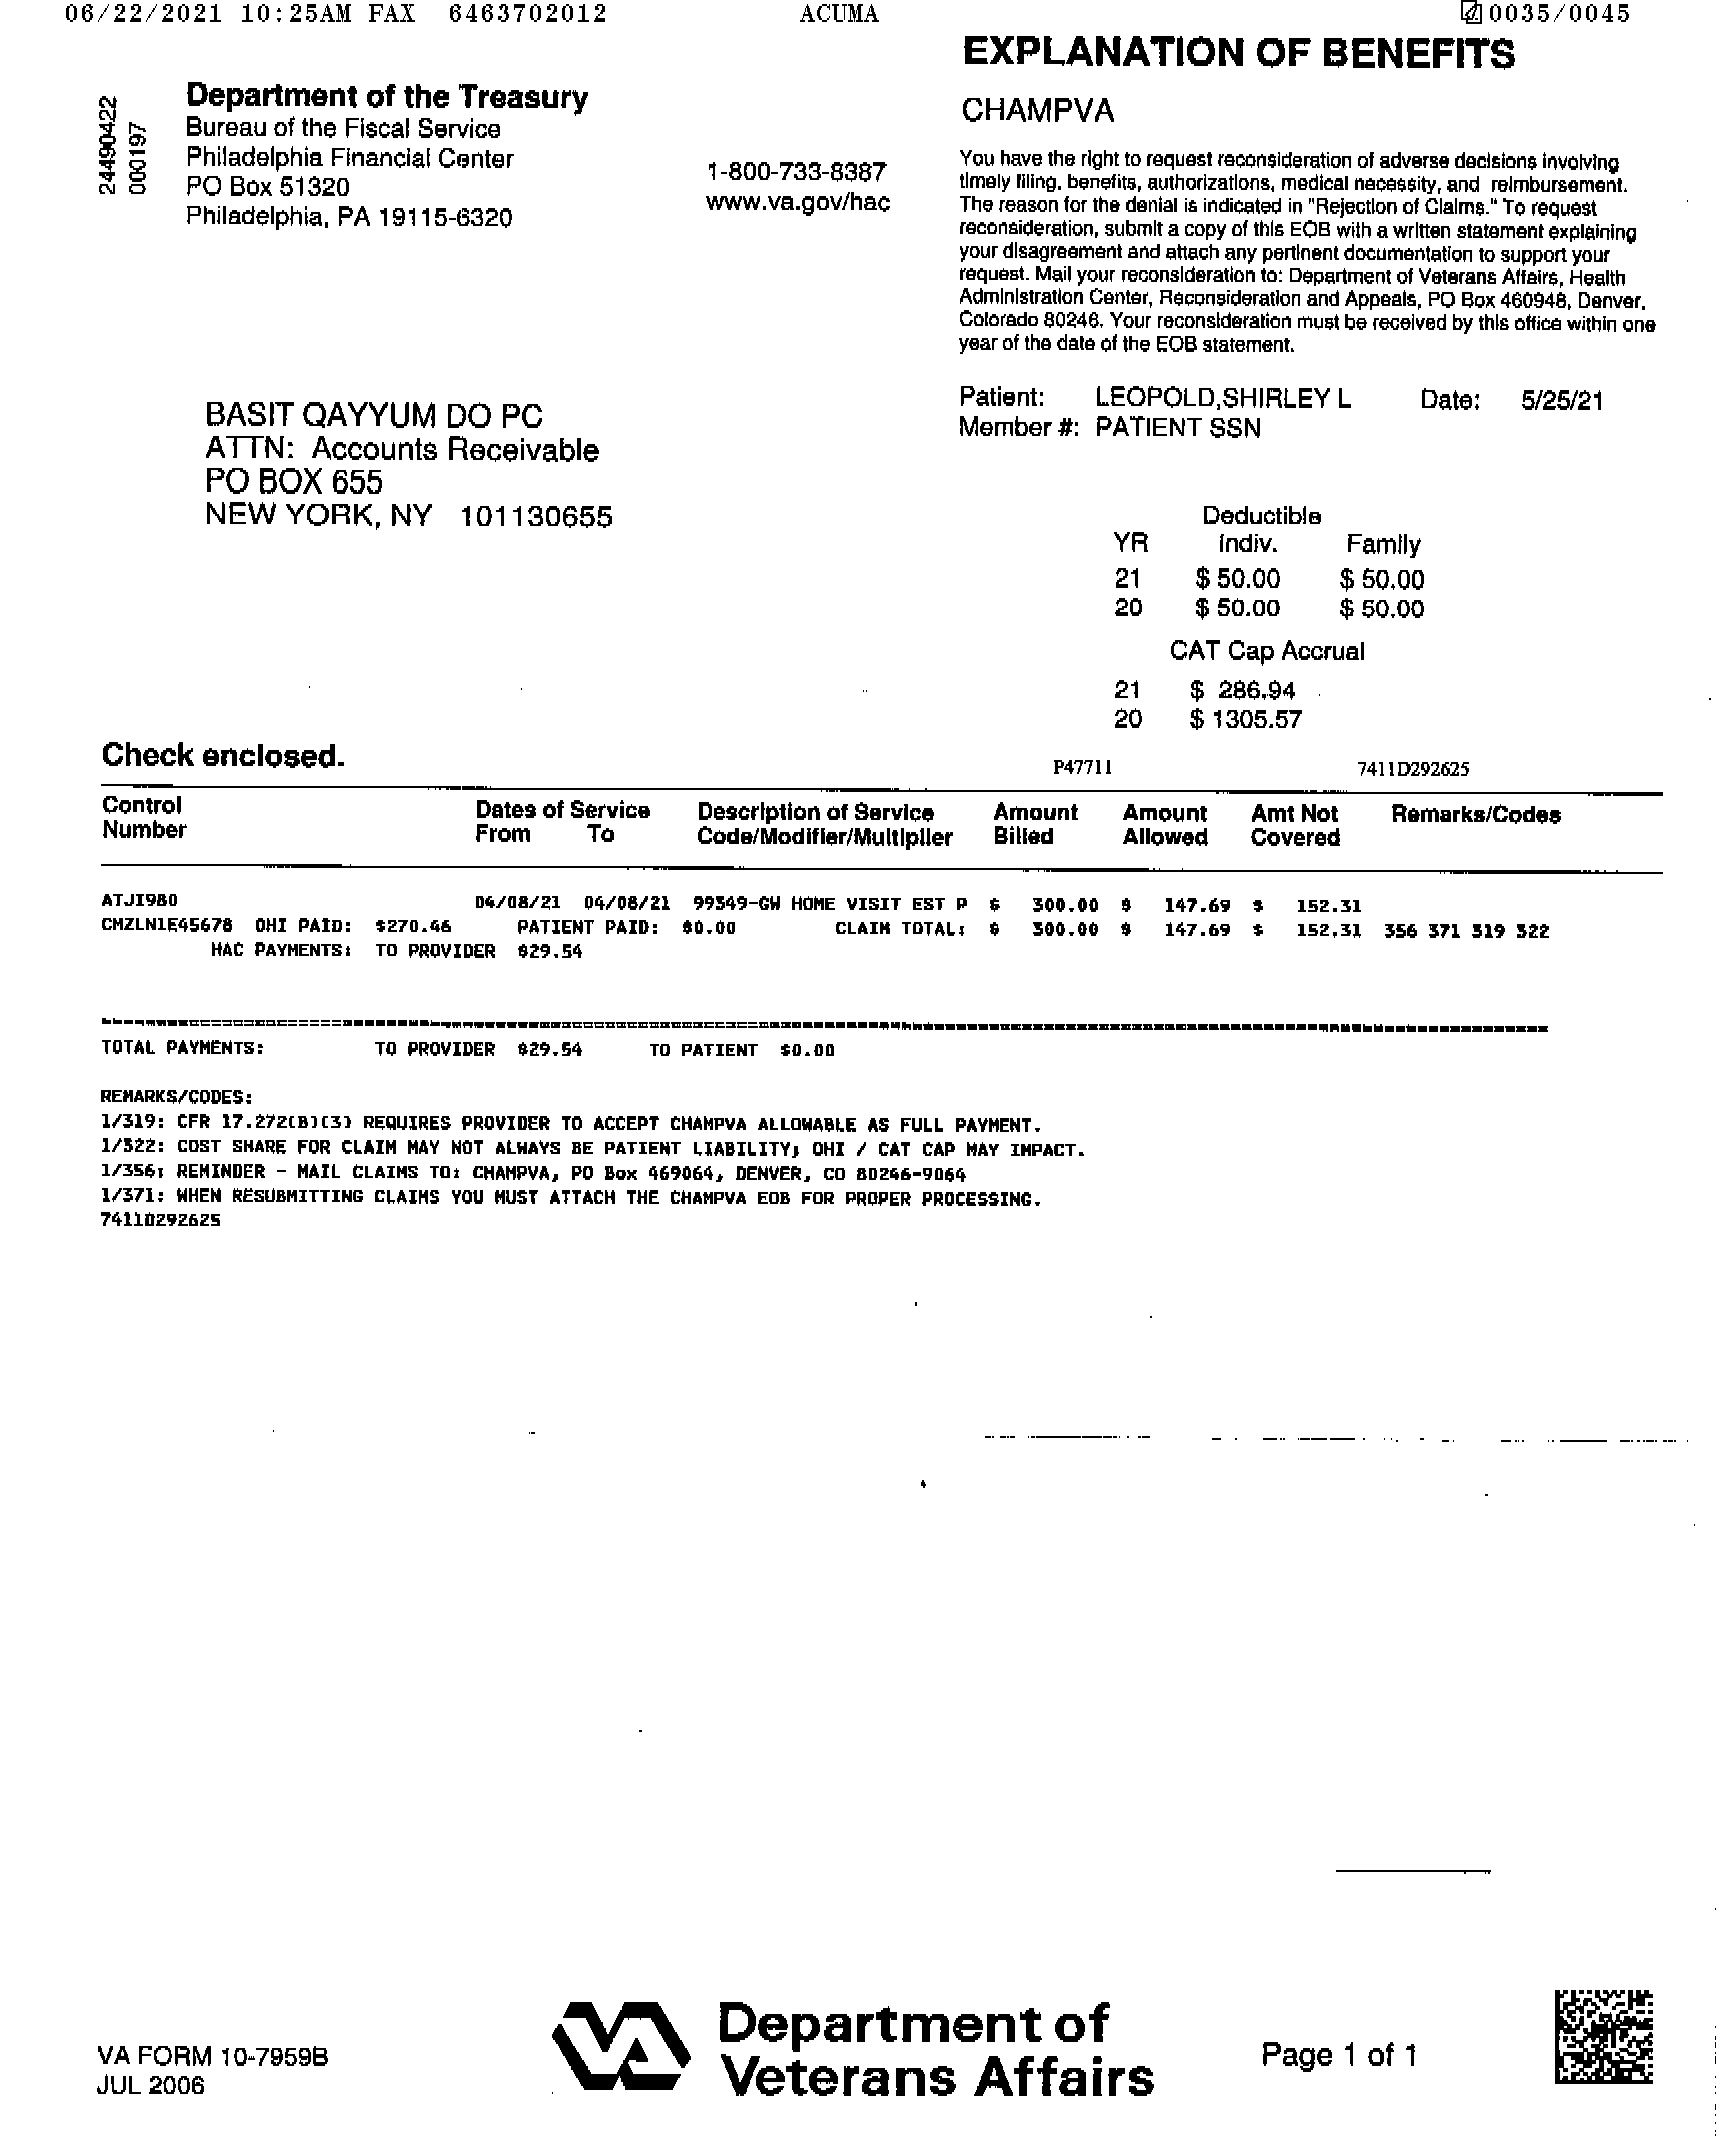table: (92, 774, 1642, 960)
